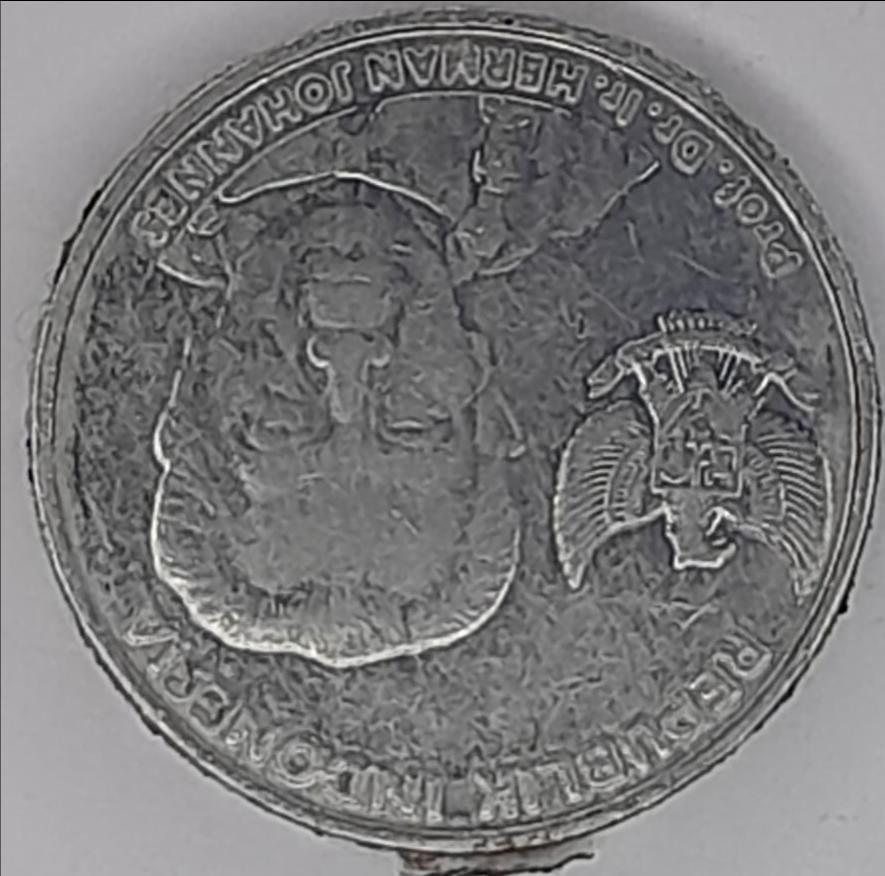coin_100_e2016: (20, 0, 884, 874)
